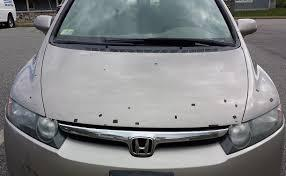bonnet-dent: (48, 50, 243, 136)
